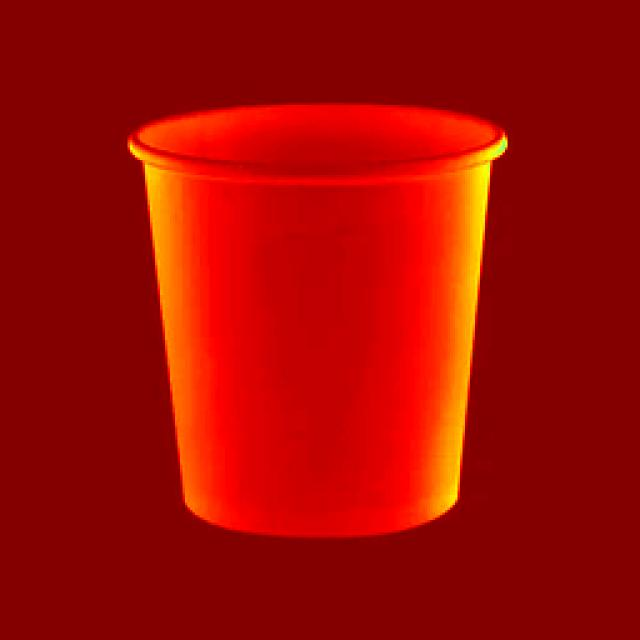Paper Cups: (105, 59, 506, 551)
